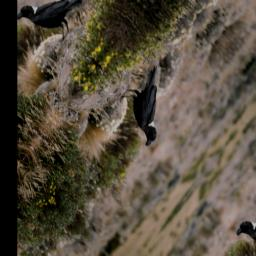Crow: (108, 57, 190, 152)
